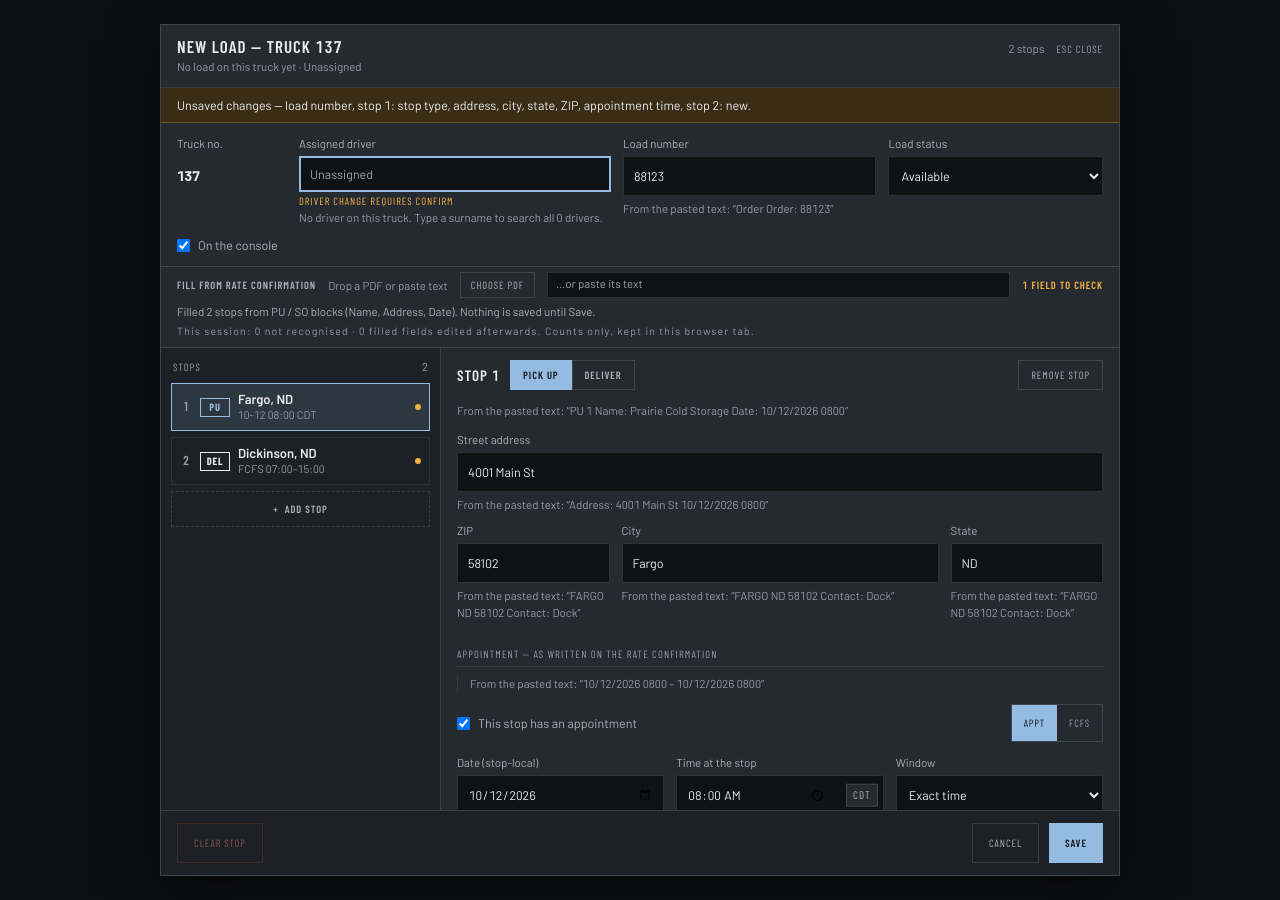
Test: Fill from rate confirmation (§12.122) › fills a new load from the text: load number, every stop in order, each field with its source
The image size is (1280, 900).
Expected: the field labelled "Load number From the pasted text: “Order Order: 88123”" holds "88123", [623,156,876,196]
Expected: the 2nd text "From the pasted text: “FARGO ND 58102 Contact: Dock”" is shown, [622,587,938,604]
Click the tab "2 DEL Dickinson, ND FCFS 07:00–15:00" at (300, 461), box [171,437,430,485]
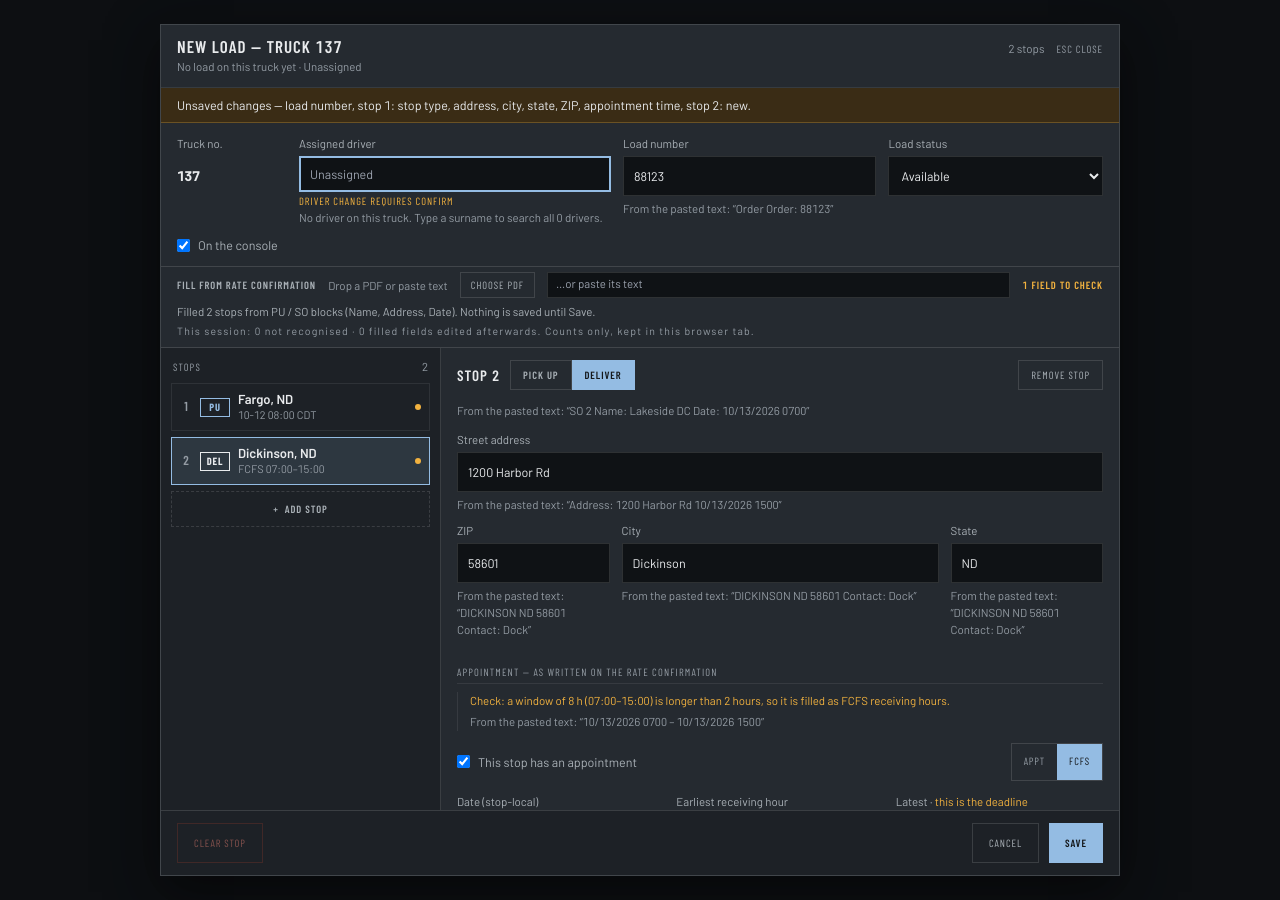
Expected: the text "1 field to check" is shown, [1022,280,1103,290]
Expected: the 4th field holds "Dickinson", [622,543,938,583]
Expected: the text "filled as FCFS receiving hours" is shown, [470,693,950,707]
